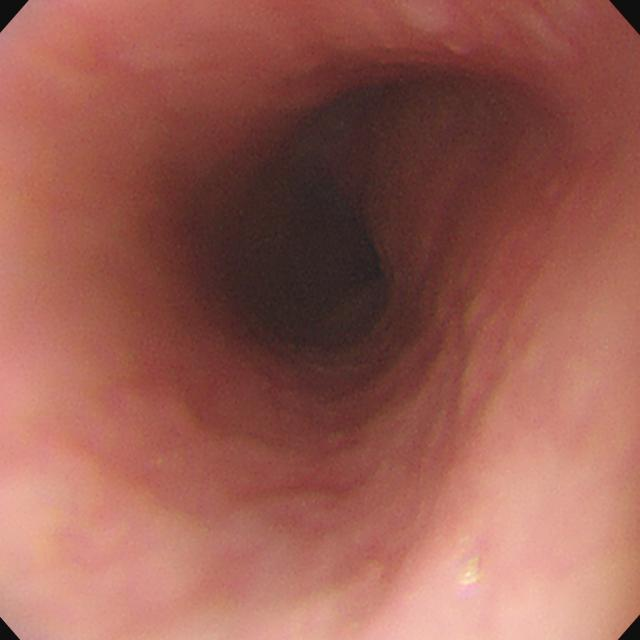E: (240, 130, 386, 341)
